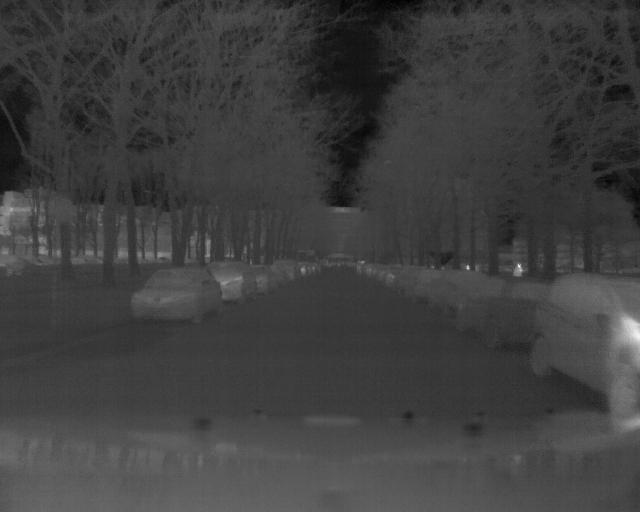car: (540, 265, 628, 415), (134, 264, 230, 318), (470, 280, 529, 348), (431, 270, 465, 326), (225, 267, 257, 300), (395, 264, 423, 298), (363, 264, 391, 285), (262, 266, 283, 291), (290, 262, 304, 279)
